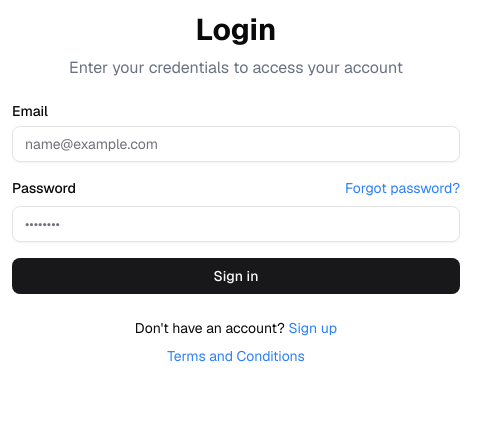
Test case: Authentication Flow › LoginForm › validates email format
Type "invalid-email" into the field labelled "Email". click: (236, 144)
box: [12,126,460,162]
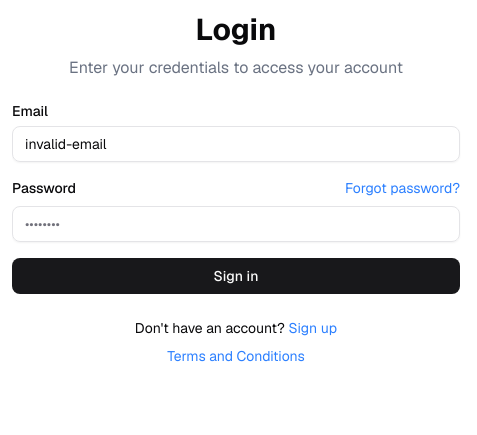
Click the button "Sign in". click: click(236, 276)
box: [12,258,460,294]
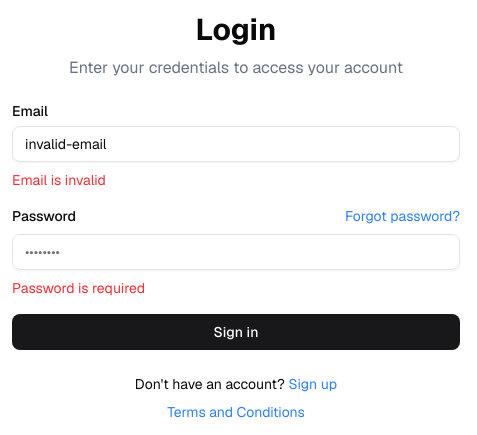
expect the text "Email is invalid" is shown: met, box [12,171,106,189]
